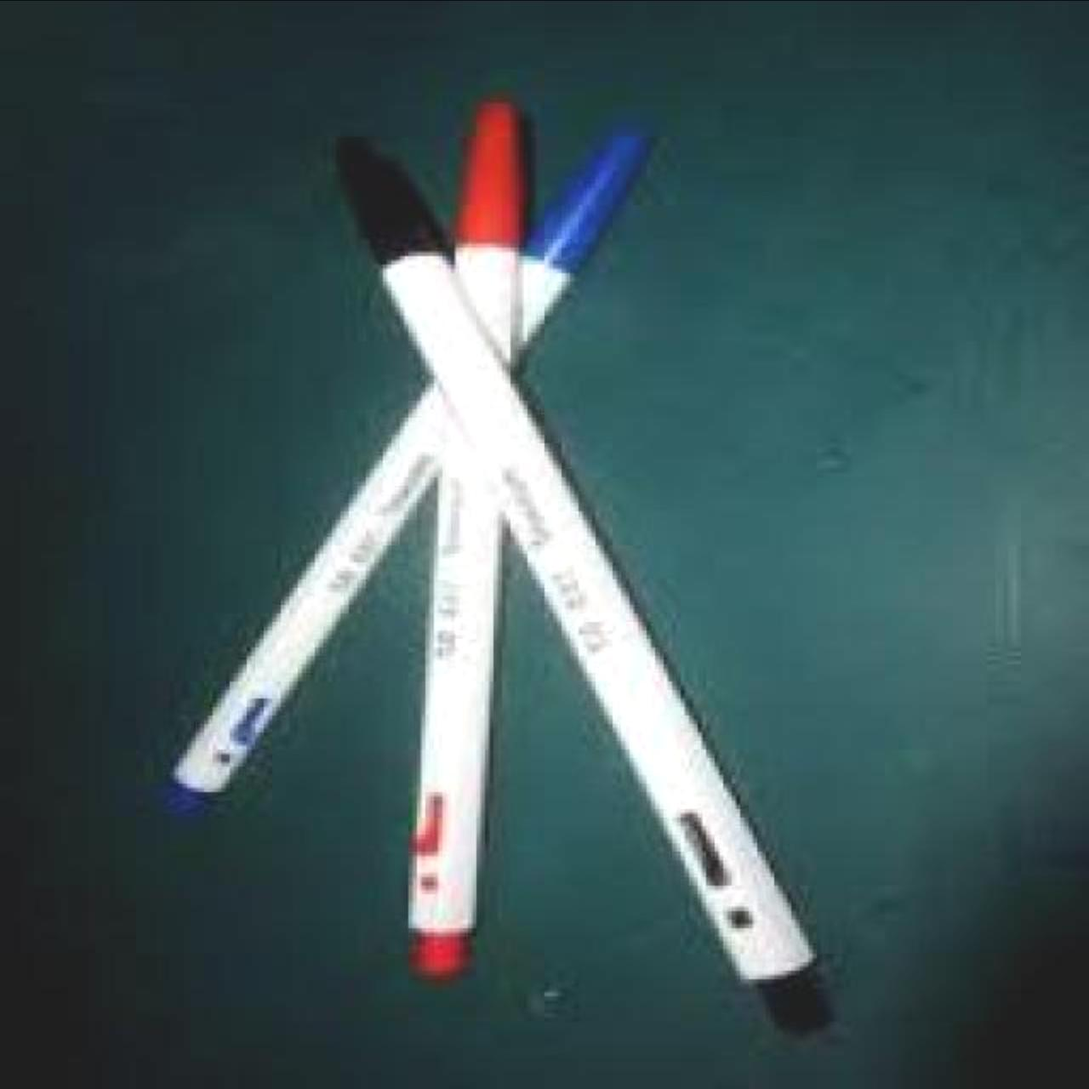pen: (328, 141, 835, 1043)
